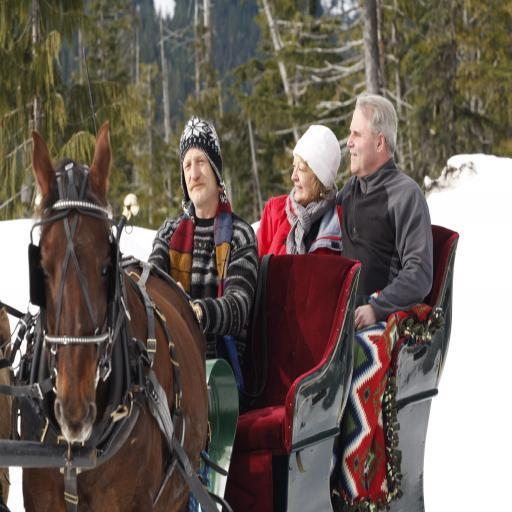horse: (22, 120, 208, 512)
